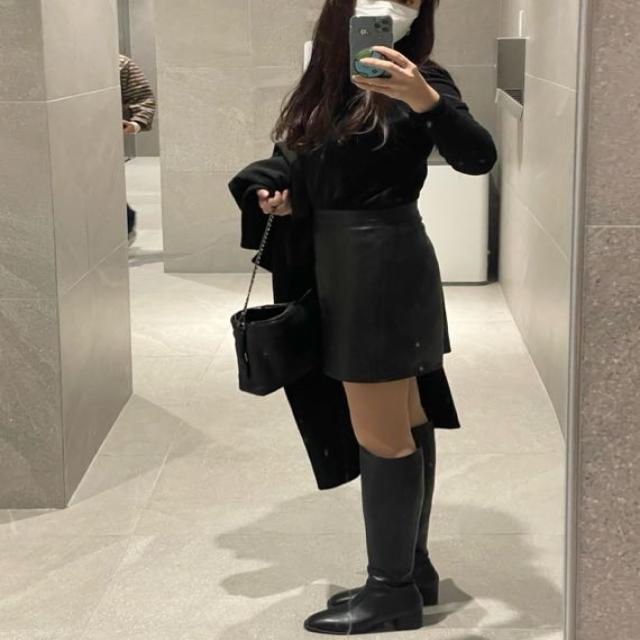longsleeve: (258, 54, 503, 214)
skirt: (310, 209, 451, 385)
